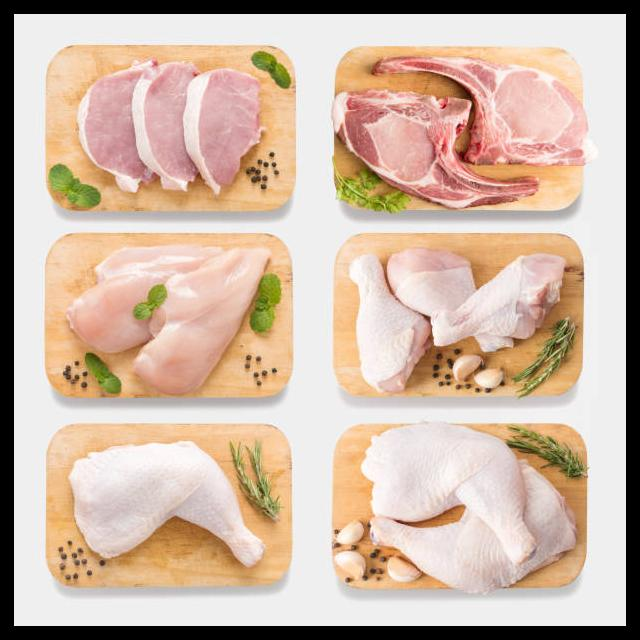chicken: (364, 429, 579, 587), (347, 251, 564, 391), (70, 244, 270, 387), (69, 434, 264, 573), (77, 59, 256, 199)
